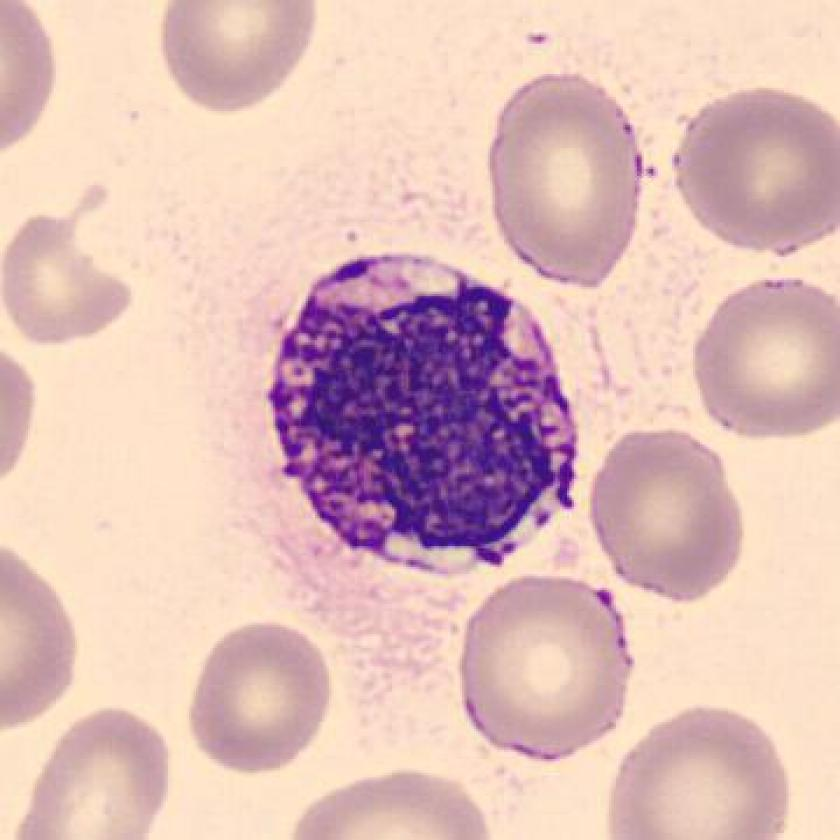basophil: (262, 232, 594, 591)
